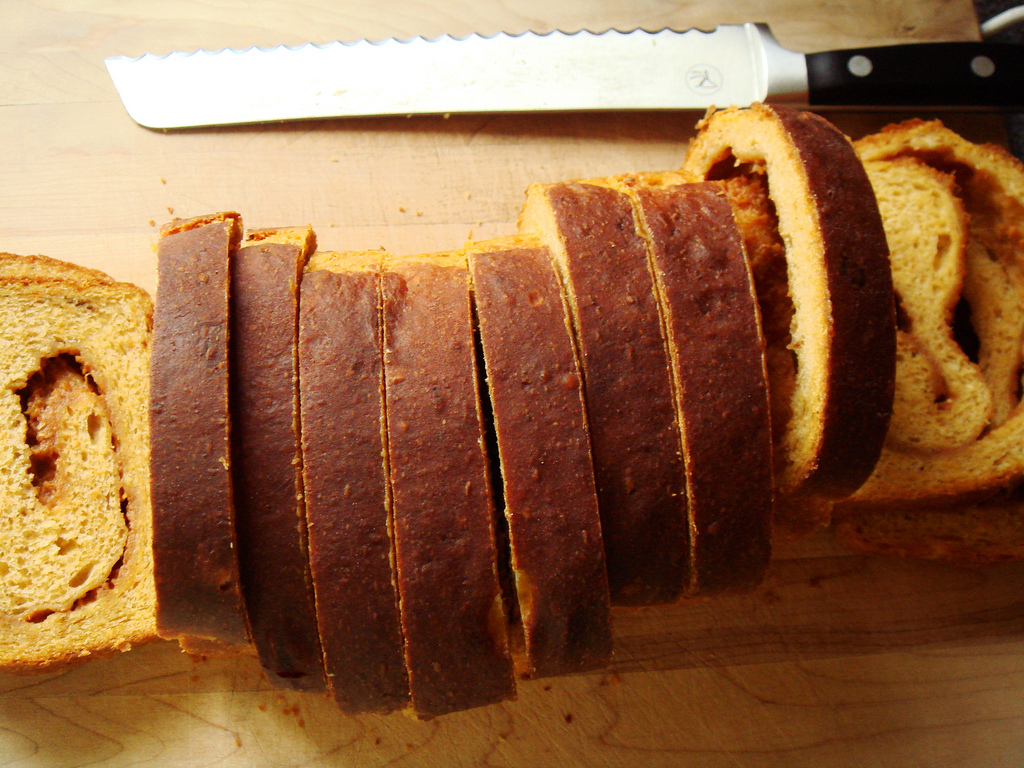slice of bread: (149, 128, 1023, 721), (1, 245, 187, 698)
